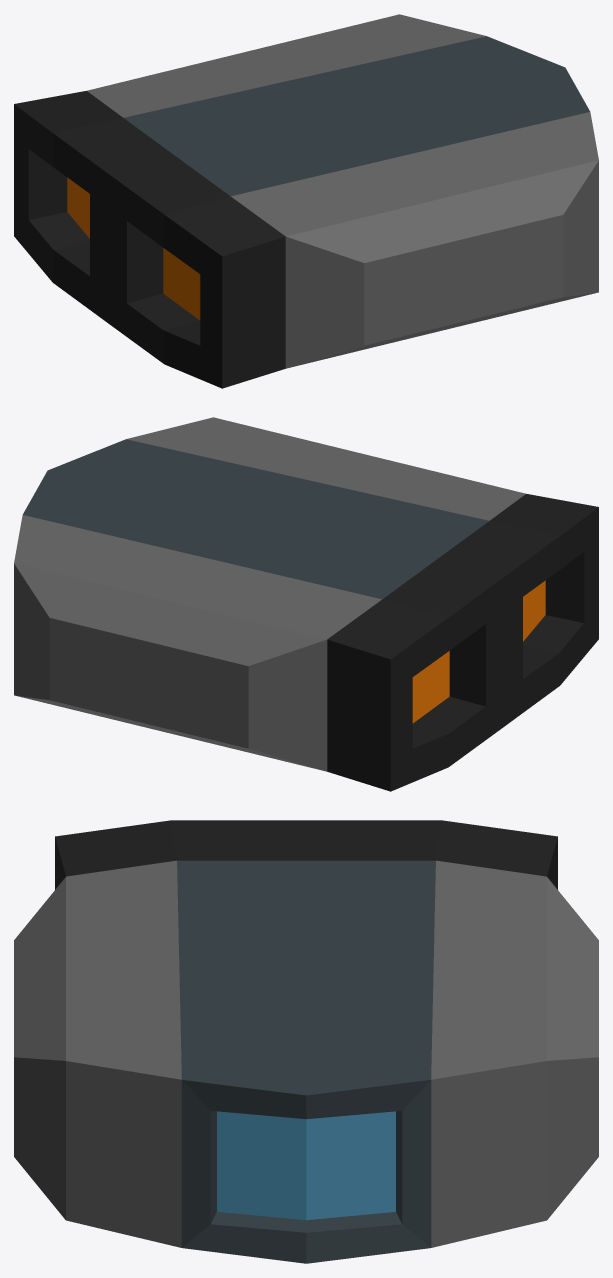
The model's file is Ship1.fbx.
The picture shows the model from 3 angles, top to bottom: view 1: azimuth 30°, elevation 25°; view 2: azimuth 150°, elevation 25°; view 3: azimuth 270°, elevation 25°; orthographic projection. The views are drawn at different scales.
Visible parts, largest first — view 1: Cube; view 2: Cube; view 3: Cube.
Boxes of the visible parts, left/top/right/bottom form: Cube: left=14, top=14, right=598, bottom=388; Cube: left=14, top=417, right=598, bottom=791; Cube: left=14, top=820, right=598, bottom=1263.
Size of the model in its own units: 492 by 154 by 452.
